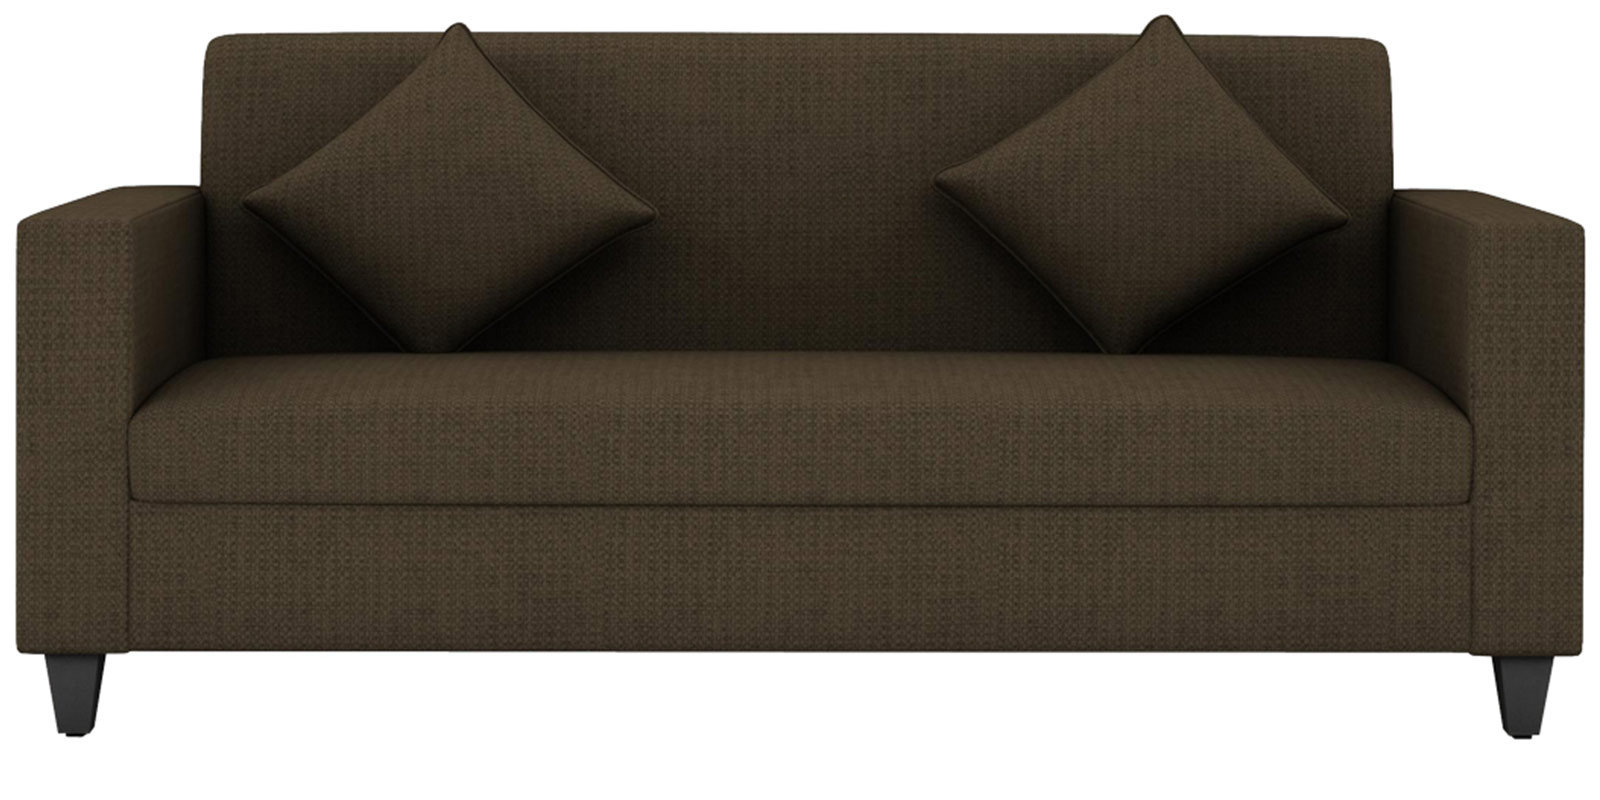Cooper Three Seater Sofa in Beige Colour by ARRA: (7, 28, 1594, 774)
